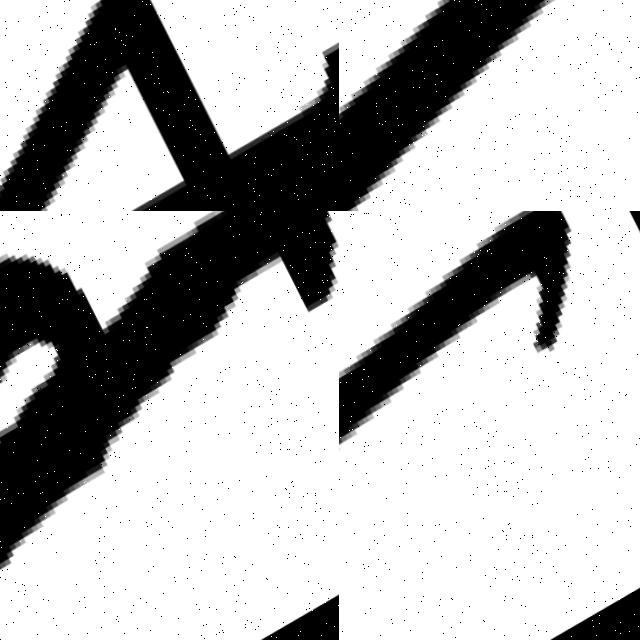I: (339, 211, 632, 625)
L: (339, 0, 640, 211)
Q: (0, 211, 339, 636)
